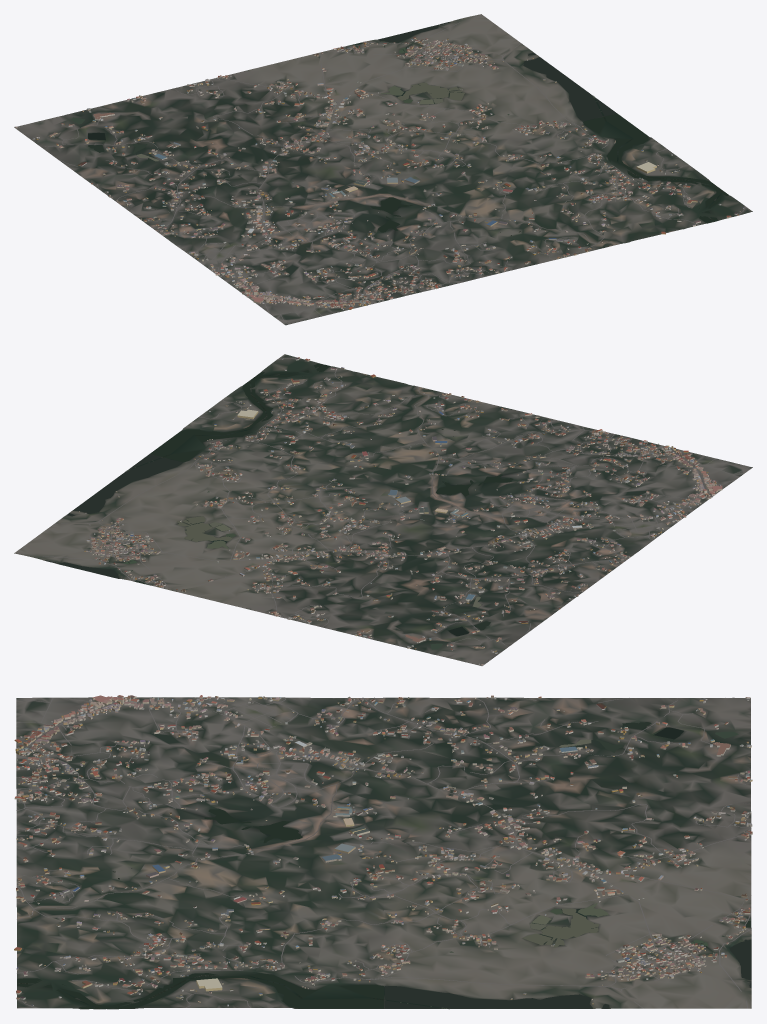
The picture shows the model from 3 angles, top to bottom: view 1: azimuth 30°, elevation 25°; view 2: azimuth 150°, elevation 25°; view 3: azimuth 270°, elevation 25°; orthographic projection. The views are drawn at different scales.
Visible parts, largest first — view 1: ground, buildings, roads, water; view 2: ground, buildings, water, roads; view 3: ground, buildings, water, roads.
Boxes of the visible parts, left/top/right/bottom form: ground: left=14, top=14, right=752, bottom=325; buildings: left=15, top=37, right=743, bottom=309; roads: left=20, top=15, right=745, bottom=324; water: left=71, top=21, right=728, bottom=235; ground: left=14, top=354, right=752, bottom=665; buildings: left=79, top=357, right=722, bottom=665; water: left=45, top=363, right=513, bottom=649; roads: left=16, top=358, right=749, bottom=661; ground: left=16, top=697, right=751, bottom=1009; buildings: left=14, top=695, right=752, bottom=1006; water: left=17, top=722, right=751, bottom=1009; roads: left=16, top=697, right=751, bottom=1008.
Size of the model in its own units: 2805 by 31.85 by 2820.
